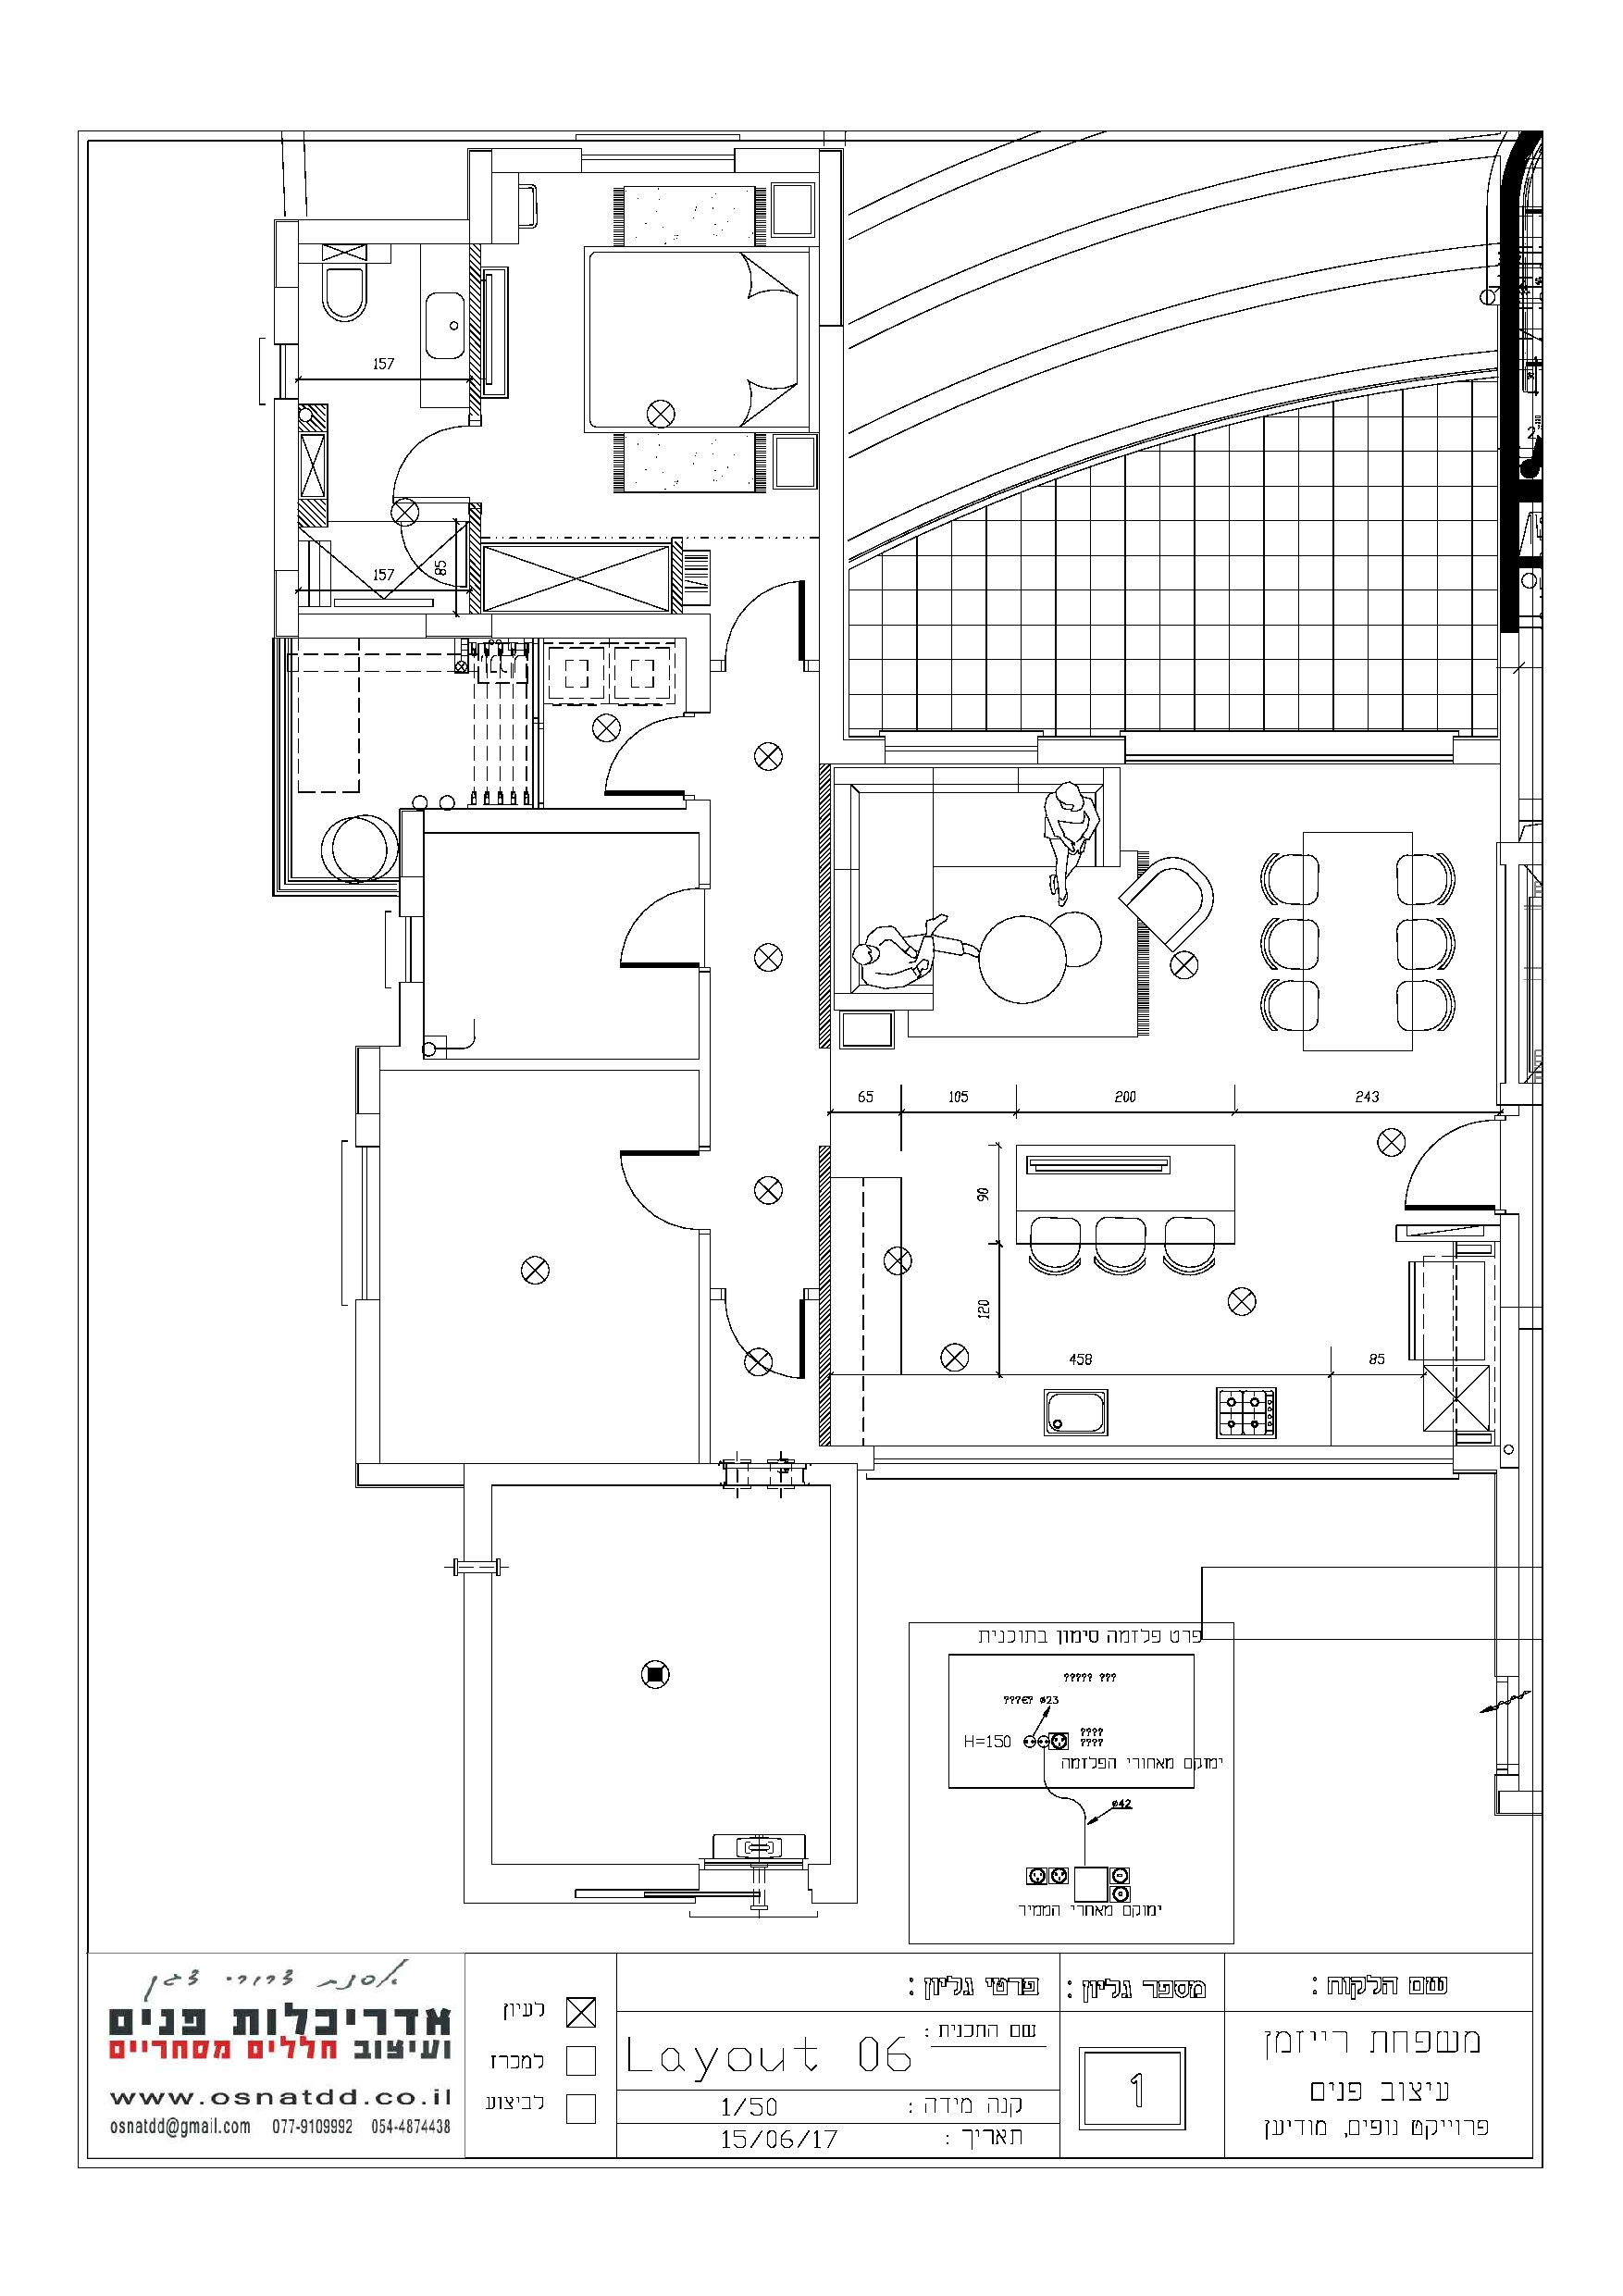door: (594, 878, 692, 986), (601, 1137, 689, 1242), (722, 1319, 815, 1390), (727, 574, 813, 650)
